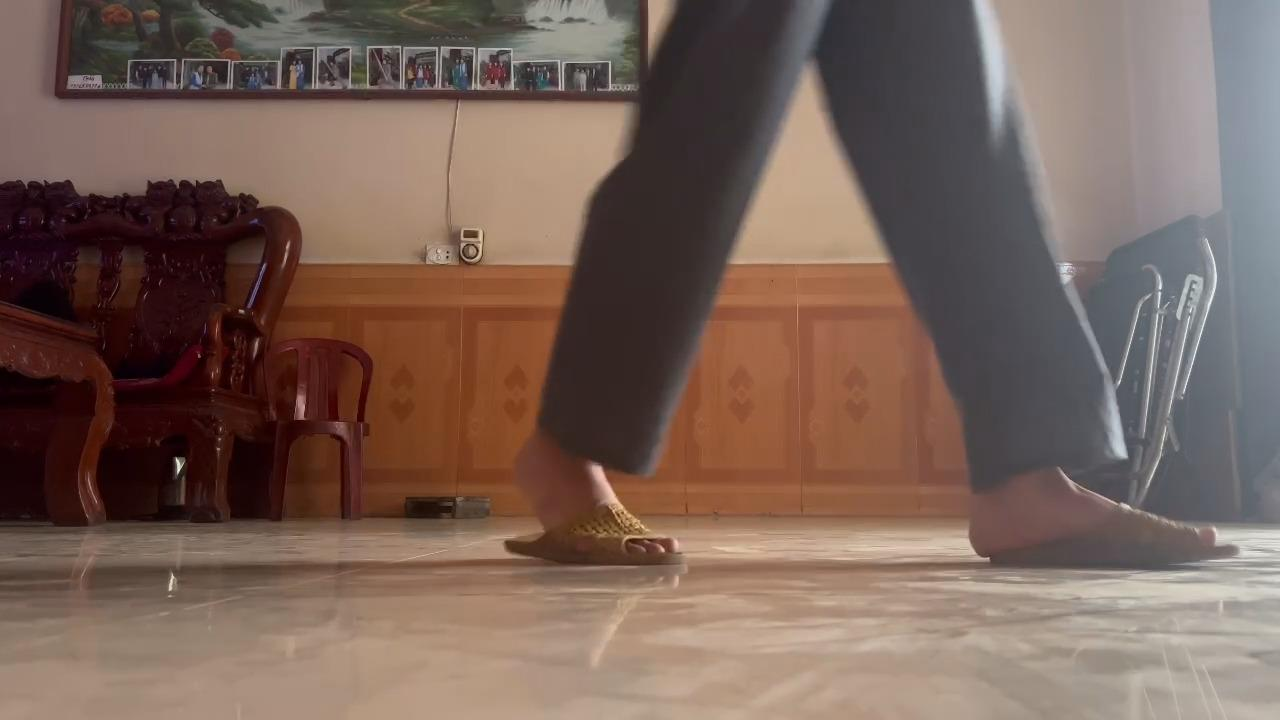no-boot: (497, 440, 692, 578), (957, 485, 1246, 575)
